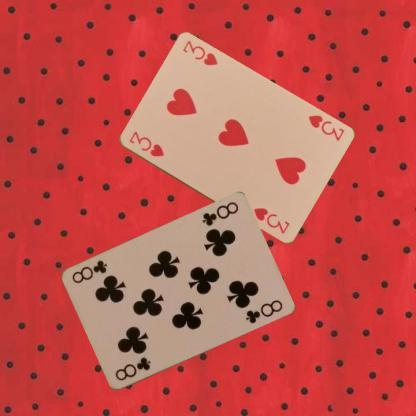3h: (306, 112, 346, 143), (126, 128, 165, 158)
8c: (199, 199, 240, 228), (112, 354, 153, 382)
